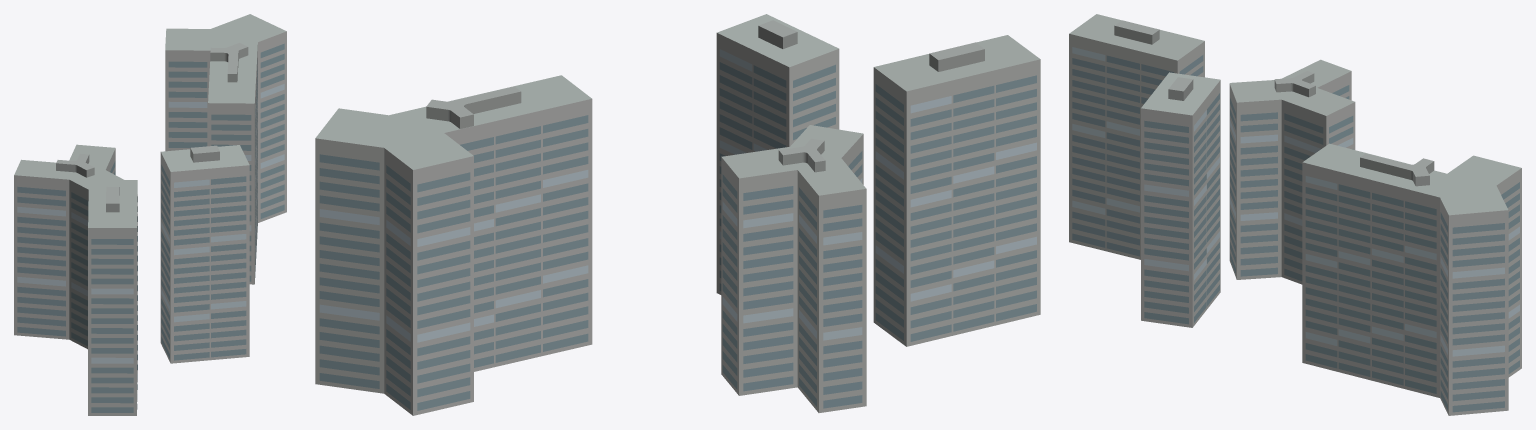
The model's file is apt-a15096001.glb.
3 renders of one model, left to right at view 1: azimuth 30°, elevation 25°; view 2: azimuth 150°, elevation 25°; view 3: azimuth 270°, elevation 25°, orthographic. The views are drawn at different scales.
Parts seen in each view (by area): view 1: apt-a15096001; view 2: apt-a15096001; view 3: apt-a15096001.
Part boxes in pixels (x1=…): apt-a15096001: x1=14, y1=14, x2=286, y2=415; apt-a15096001: x1=315, y1=14, x2=1040, y2=415; apt-a15096001: x1=1069, y1=14, x2=1521, y2=415.
Size of the model in its own units: 103 by 55 by 102.
